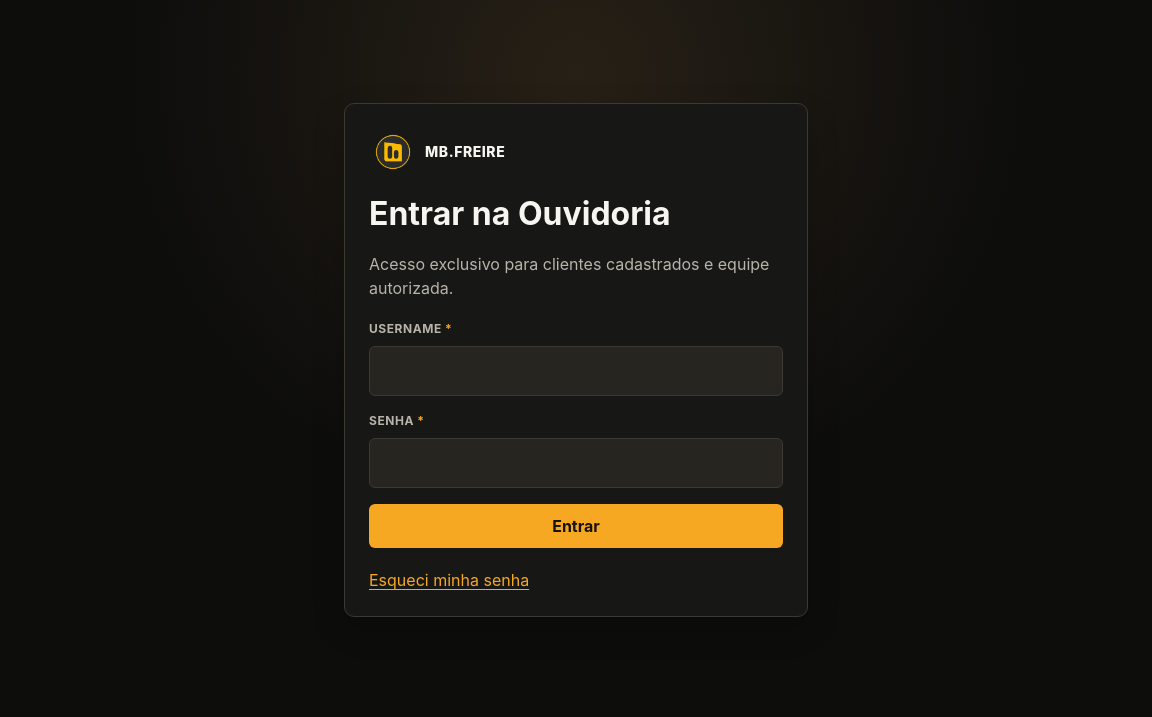
Test: lista páginas reais sem reordenar e navega ao detalhe próprio
The width and height of the screenshot is (1152, 717).
In the field labelled "Username": (576, 371) [369, 346, 783, 396], type "cliente"
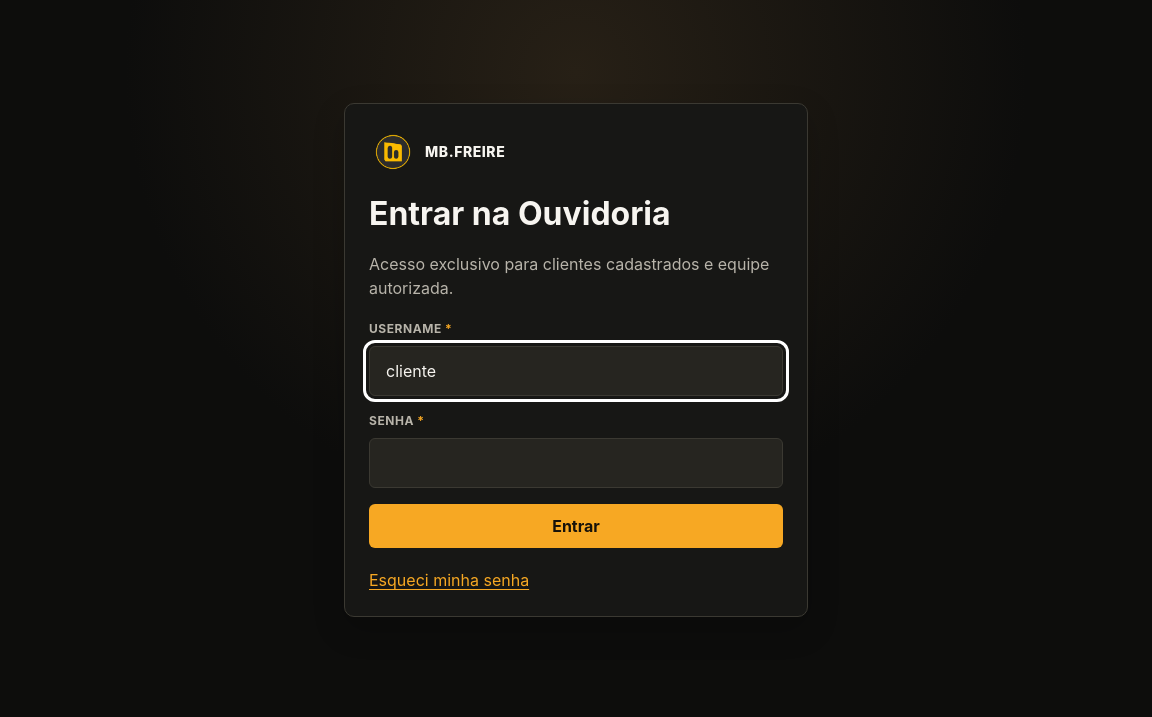
In the password field labelled "Senha *": (576, 463) [369, 438, 783, 488], type "senha-correta"
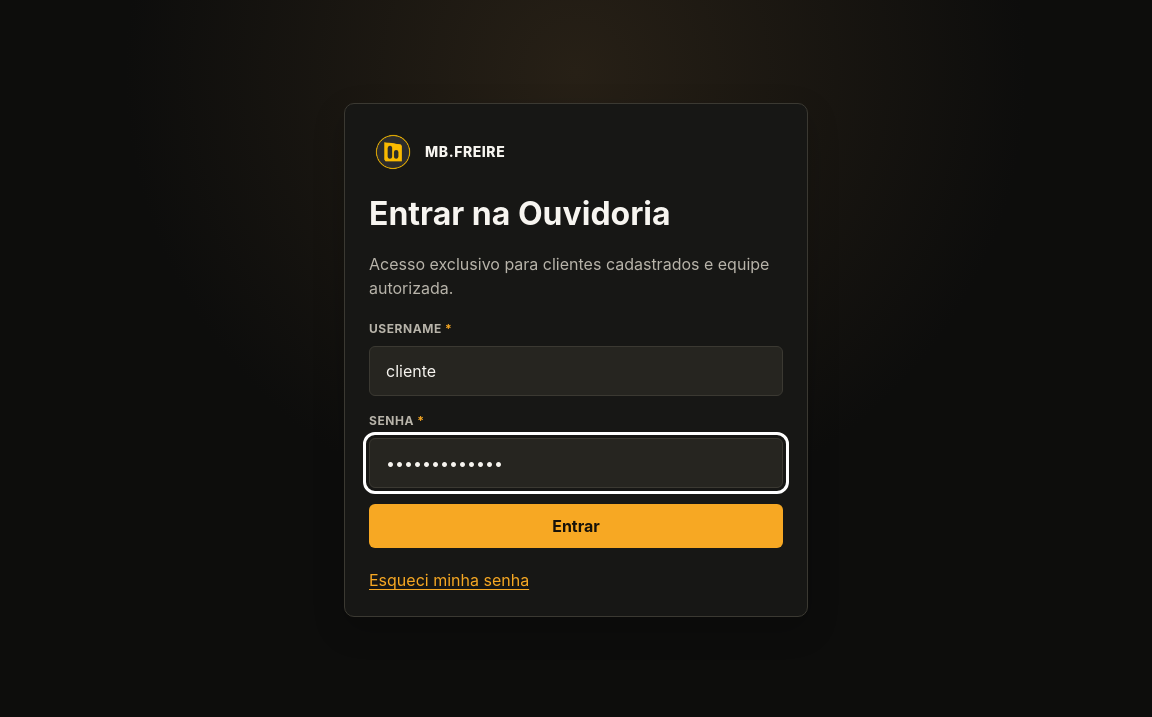
Click the button "Entrar": click(576, 526) [369, 504, 783, 548]
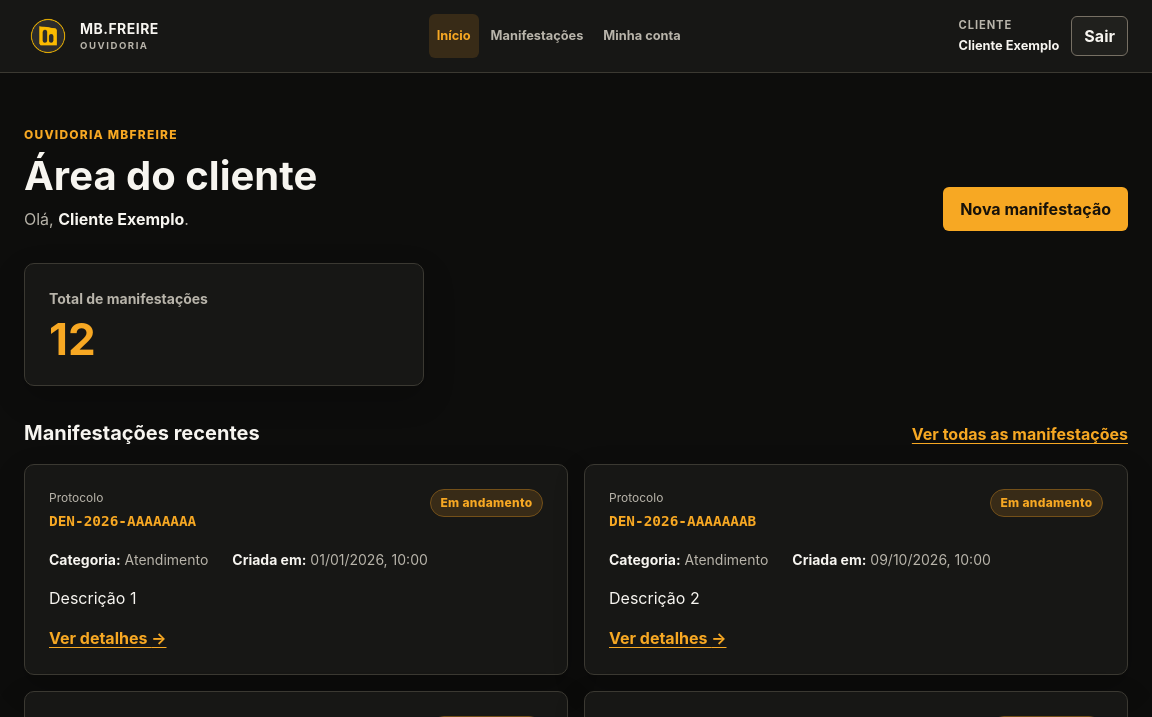
Result: the heading "Área do cliente" is shown at [24, 153, 317, 199]
Click the link "Ver todas as manifestações": click(1020, 434) [912, 422, 1128, 446]
(page scrolled)
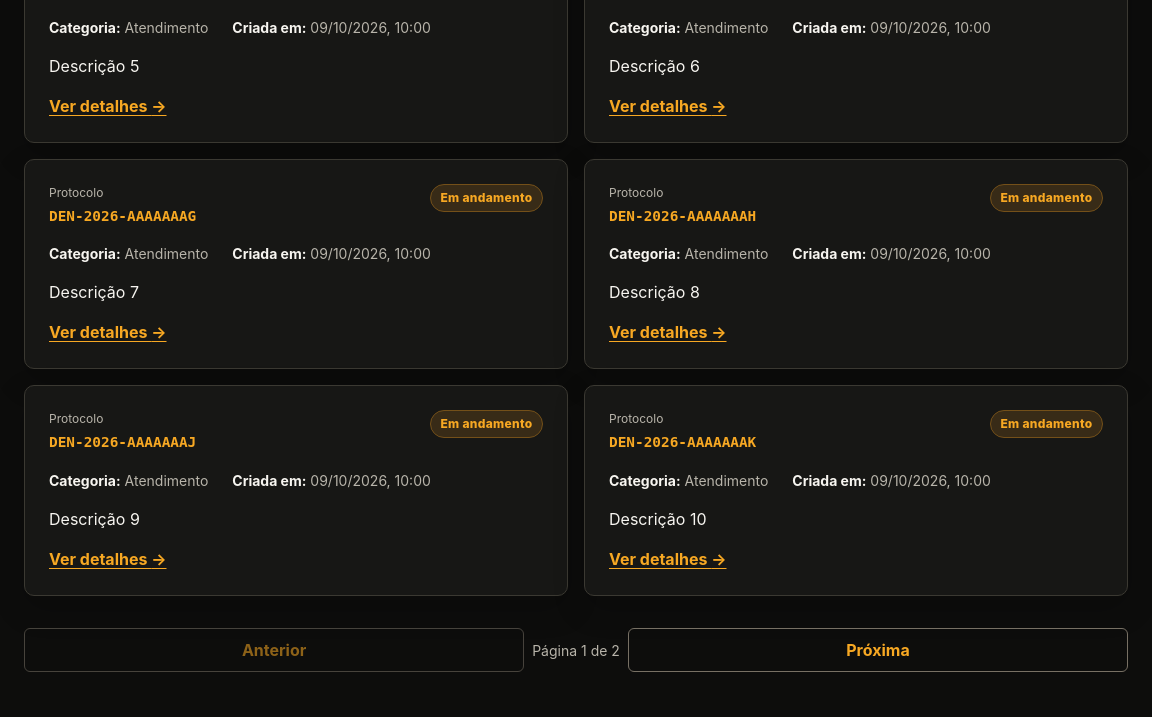
Result: the number of links "Ver detalhes da manifestação" is 10
Result: the text "Página 1 de 2" is shown at [532, 640, 620, 660]
Result: the button "Anterior" is disabled at [24, 628, 524, 672]
Click the button "Próxima": click(878, 650) [628, 628, 1128, 672]
(page scrolled)
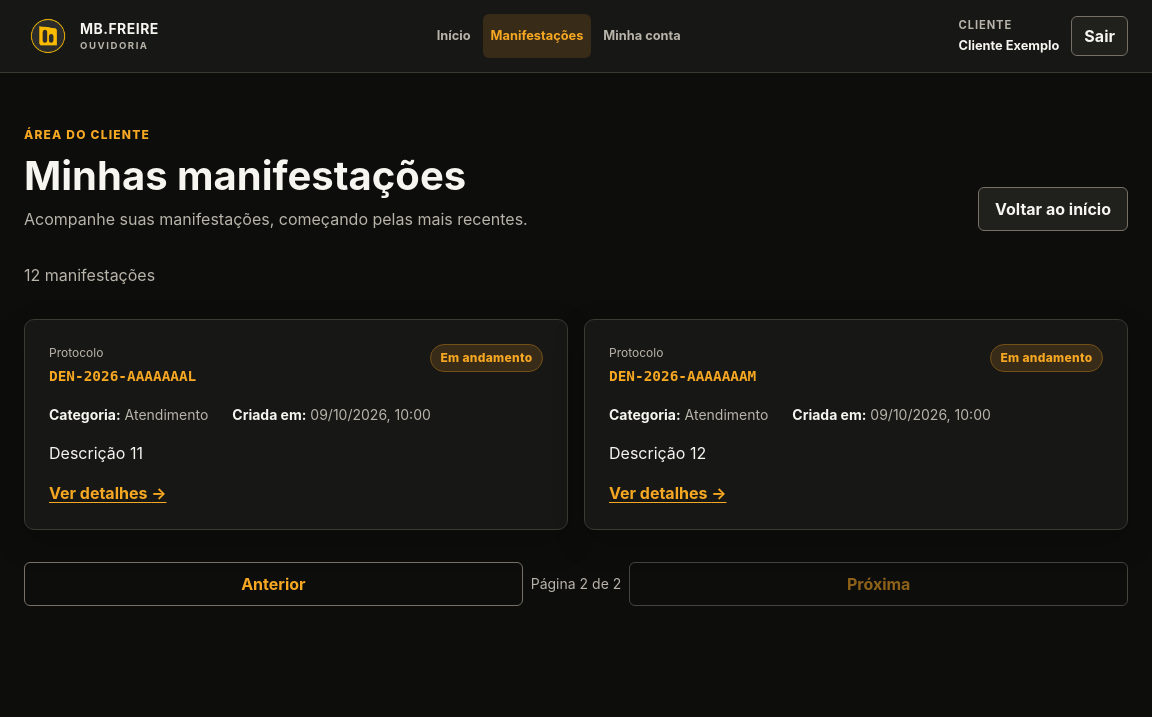
Result: the text "Página 2 de 2" is shown at [531, 573, 621, 594]
Result: the number of links named "Ver detalhes da manifestação" is 2
Result: the button "Próxima" is disabled at [629, 562, 1128, 606]
Click the link named "Ver detalhes da manifestação": click(108, 493) [49, 481, 166, 505]
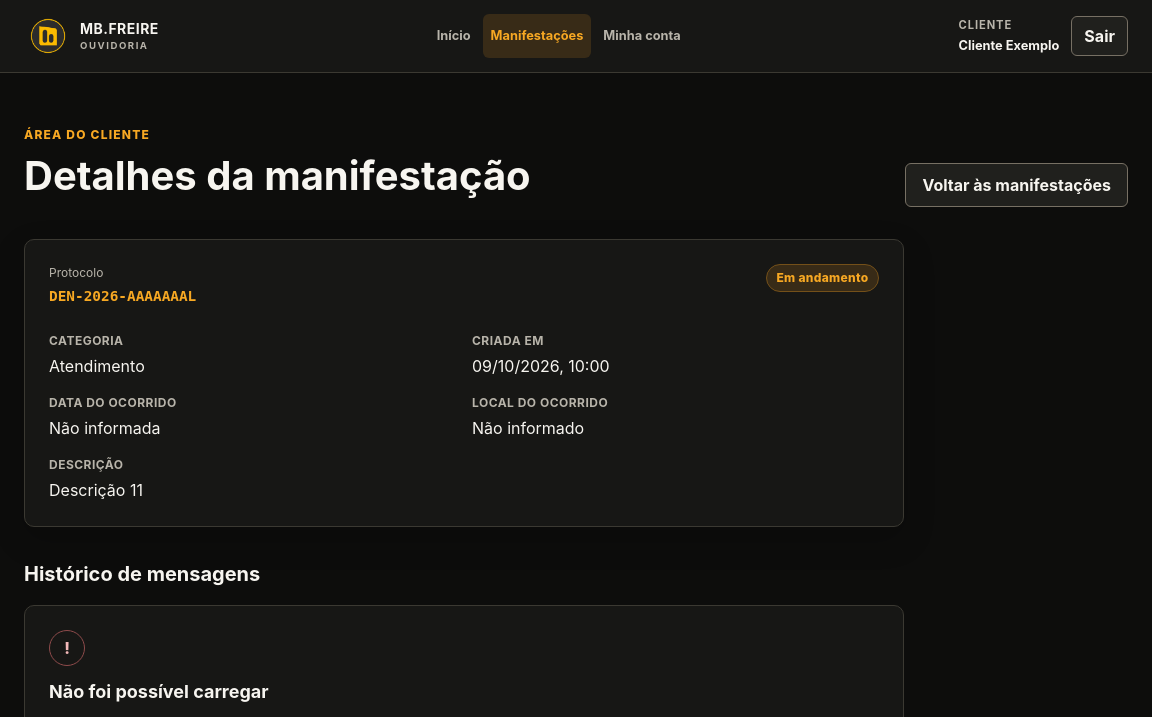
Result: the heading "Detalhes da manifestação" is shown at [24, 153, 531, 199]
